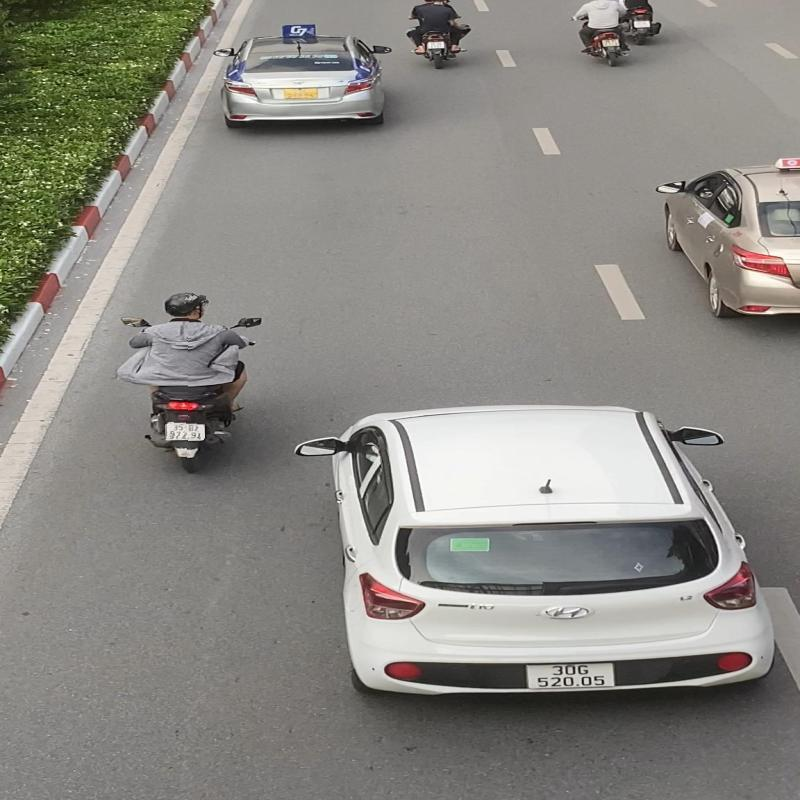helmet: (164, 292, 206, 316)
licenseplate: (166, 422, 206, 440)
motorcyclist: (110, 290, 266, 474)
